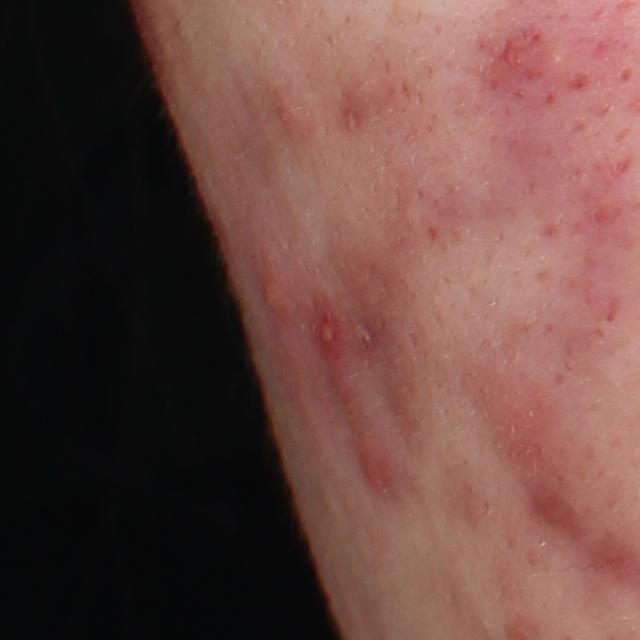papule: (476, 8, 549, 99), (300, 306, 340, 364), (271, 86, 306, 140)
